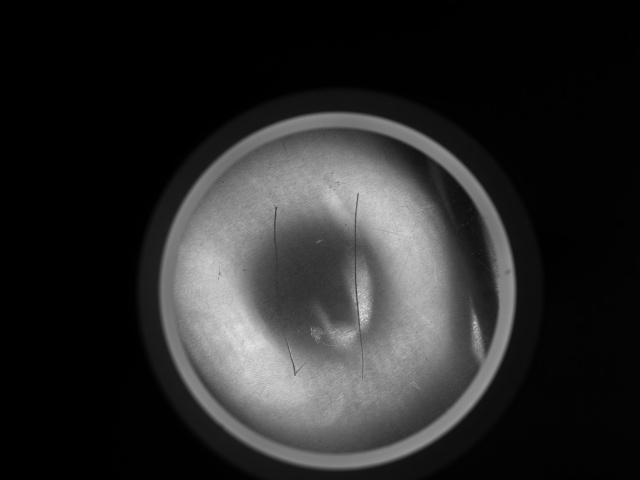ca_shang: (267, 200, 315, 379), (348, 189, 375, 383)
